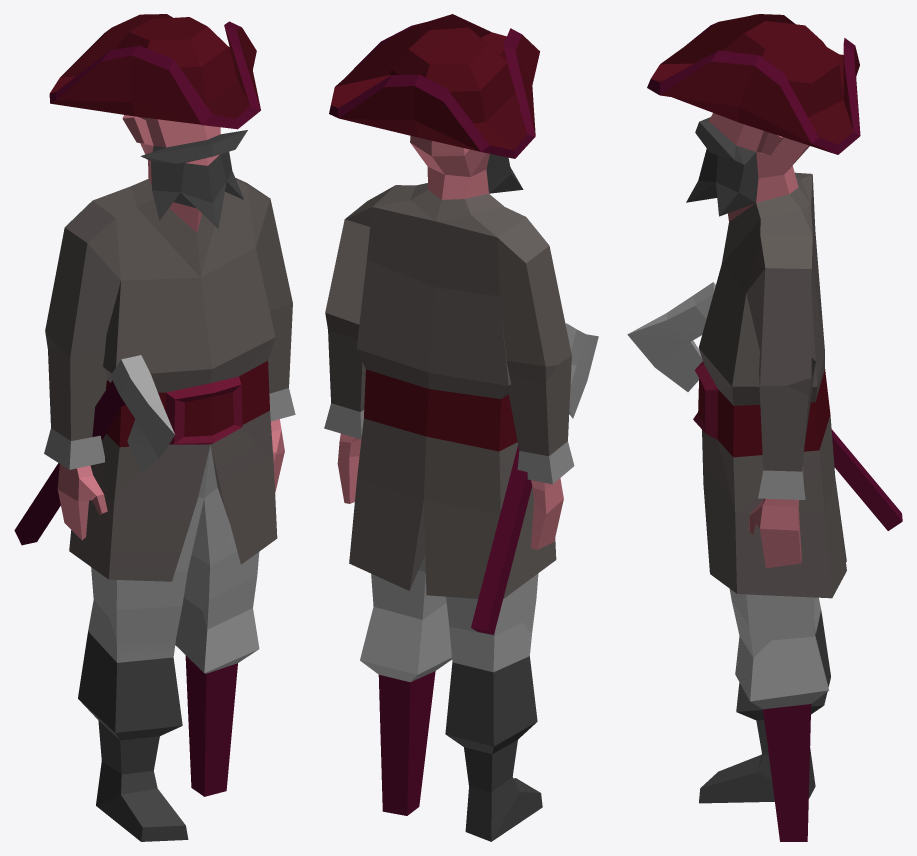
The model's file is hombre-pirata.glb.
3 renders of one model, left to right at view 1: azimuth 30°, elevation 25°; view 2: azimuth 150°, elevation 25°; view 3: azimuth 270°, elevation 25°, orthographic.
Parts seen in each view (by area): view 1: man-pirate-hat; view 2: man-pirate-hat; view 3: man-pirate-hat.
Boxes of the visible parts, bbox=[...] form: man-pirate-hat: bbox=[14, 14, 295, 841]; man-pirate-hat: bbox=[324, 14, 598, 841]; man-pirate-hat: bbox=[627, 14, 902, 841].
Bounding box in the file's own units: 0.5839 × 1.89 × 0.6031.
